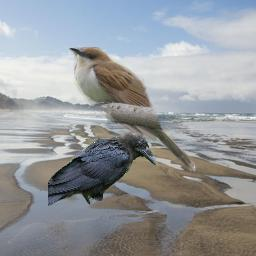Crow: (48, 131, 157, 206)
Cuckoo: (68, 47, 197, 172)
